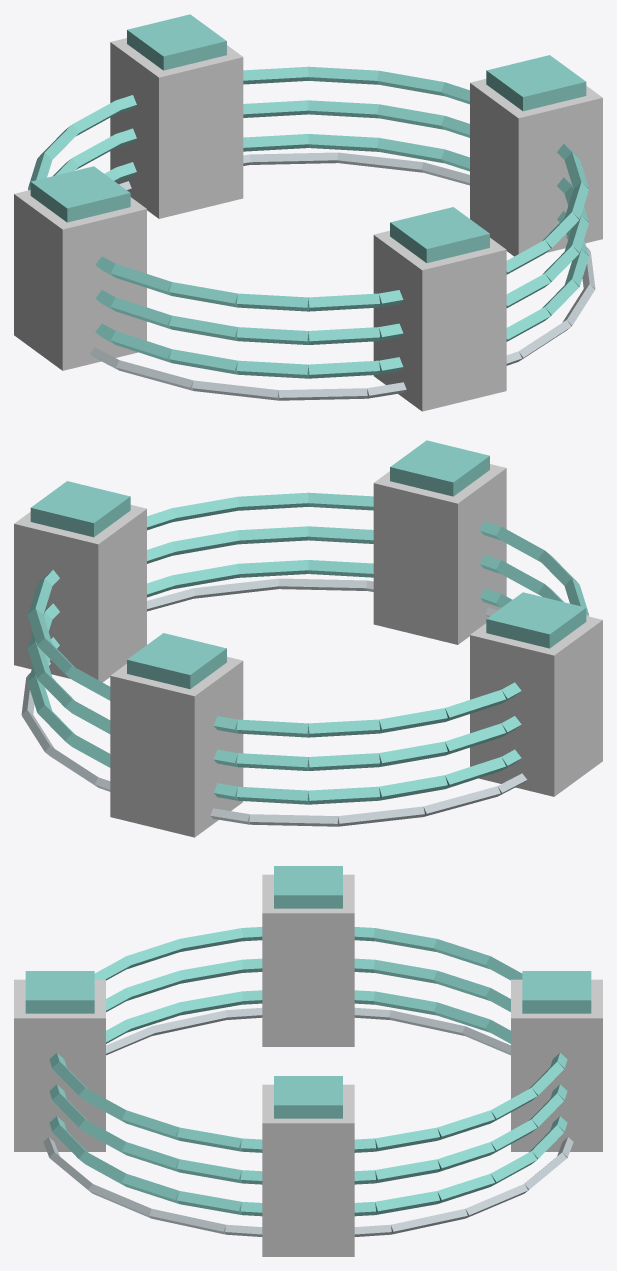
File: space_ramparts_h3.glb
3 renders of one model, top to bottom at view 1: azimuth 30°, elevation 25°; view 2: azimuth 150°, elevation 25°; view 3: azimuth 270°, elevation 25°, orthographic. The views are drawn at different scales.
Visible parts, largest first — view 1: WoodBody, FixedDetails, BrassTrim; view 2: WoodBody, FixedDetails, BrassTrim; view 3: WoodBody, FixedDetails, BrassTrim.
Boxes of the visible parts, bbox=[...] form: WoodBody: bbox=[14, 38, 602, 411]; FixedDetails: bbox=[28, 14, 588, 378]; BrassTrim: bbox=[90, 152, 595, 400]; WoodBody: bbox=[14, 464, 602, 837]; FixedDetails: bbox=[28, 440, 588, 804]; BrassTrim: bbox=[21, 578, 526, 826]; WoodBody: bbox=[14, 874, 602, 1256]; FixedDetails: bbox=[25, 866, 591, 1216]; BrassTrim: bbox=[43, 1007, 573, 1236].
Size of the model in its own units: 0.64 by 0.176 by 0.64.
